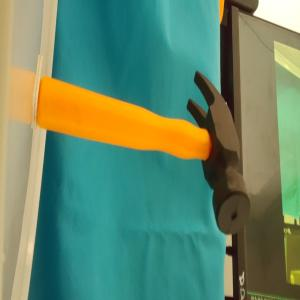martelo: (35, 68, 253, 237)
